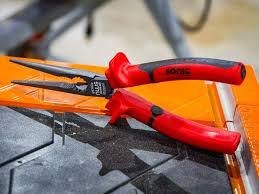pliers: (8, 50, 245, 151)
